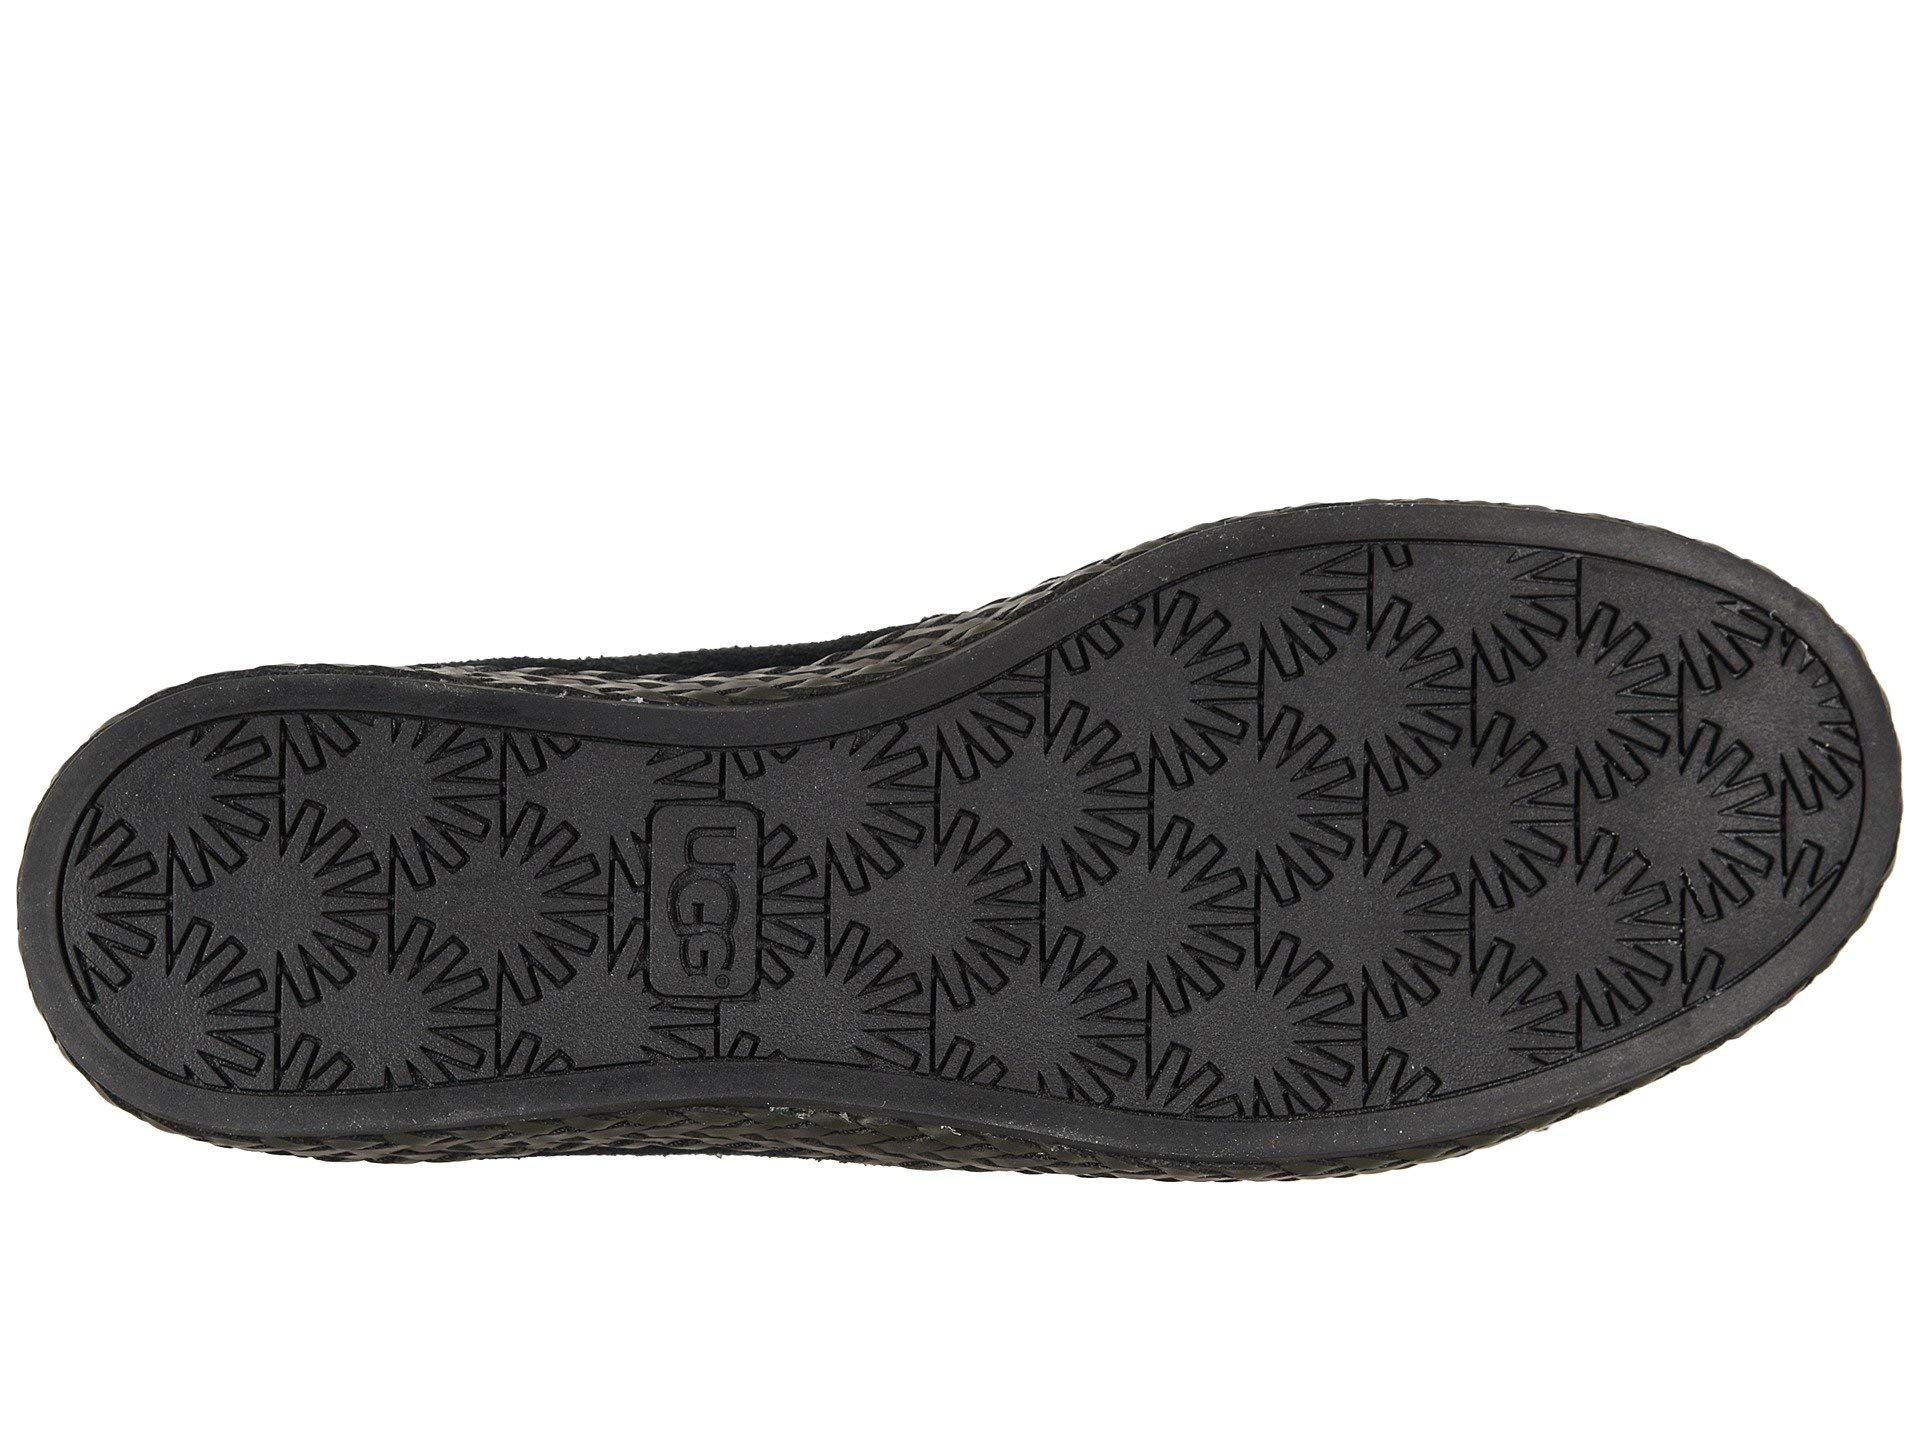quad: (522, 743, 890, 1068)
star: (1070, 667, 1395, 1057), (522, 743, 890, 1068)
